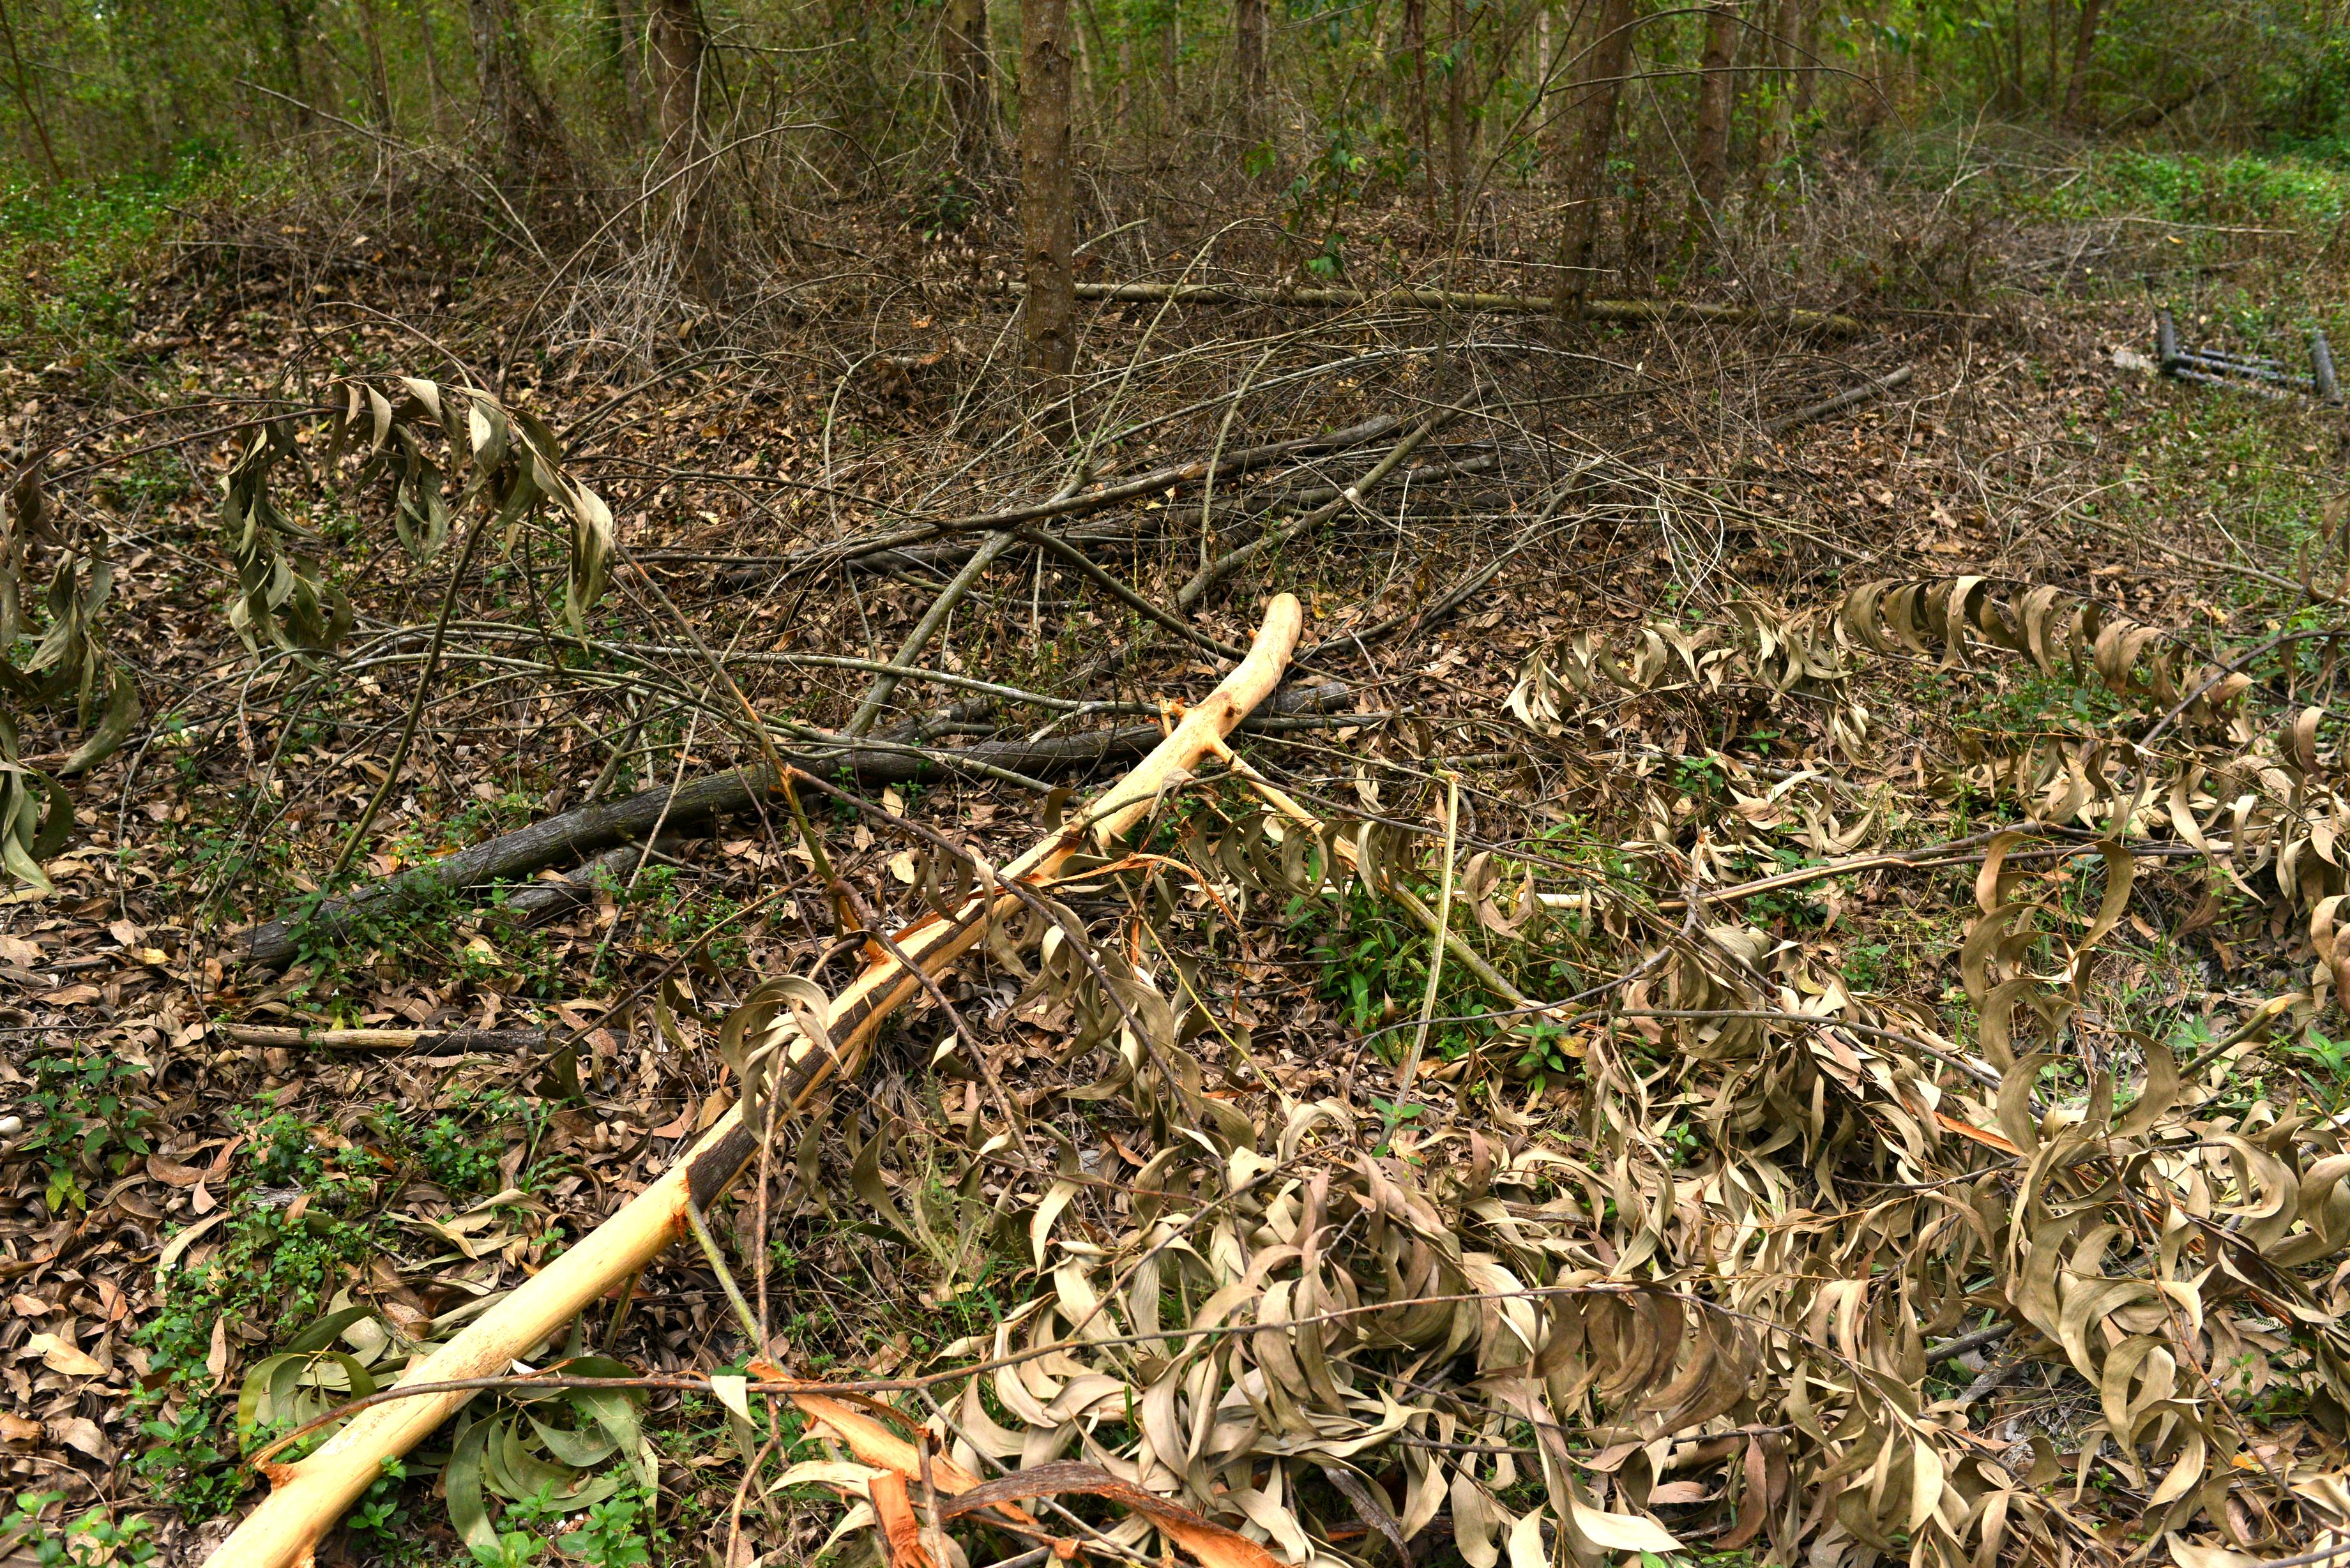Mammals Attack: (208, 591, 1311, 1568)
